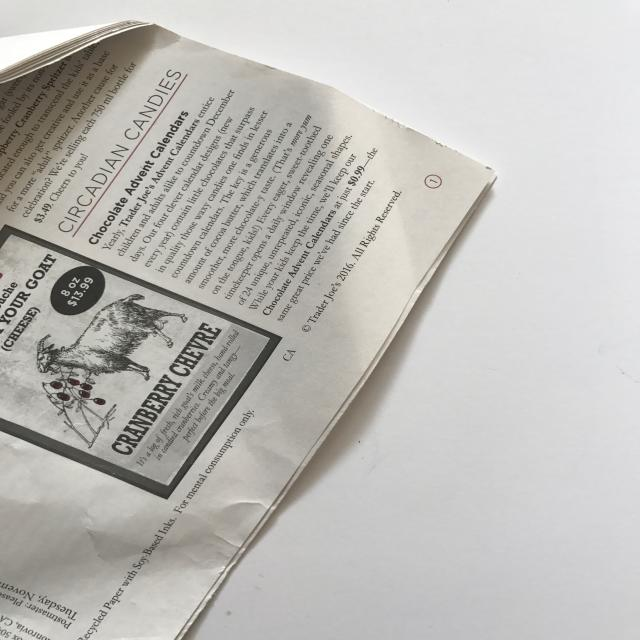paper: (1, 19, 498, 638)
